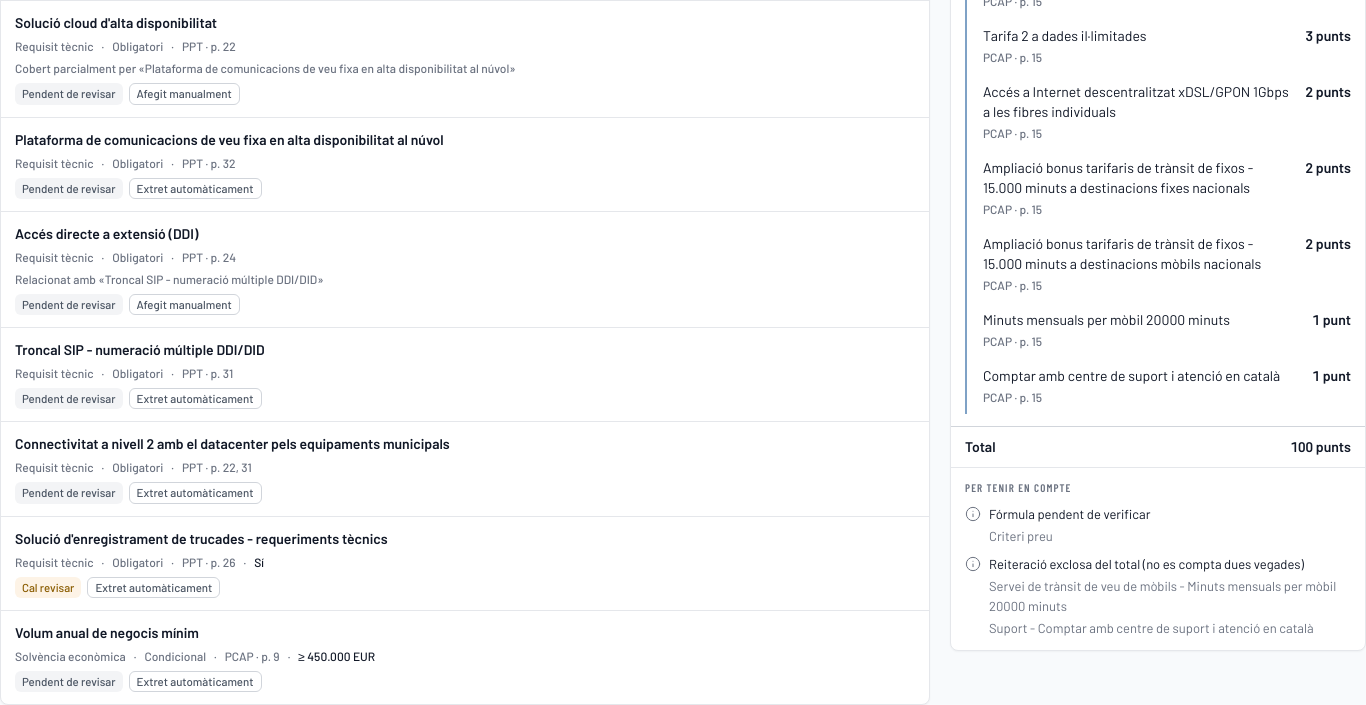
it: Revisió de la licitació › M09: l'evidència original i la cita manual de p. 22
(page scrolled)
Expected: the text "PPT · p. 22, 31" is shown, [182,458,252,476]
Expected: the 3rd text "Extret automàticament" is shown, [128,482,262,504]
Click the button "Connectivitat a nivell 2" at (232, 444), box [1,422,929,516]
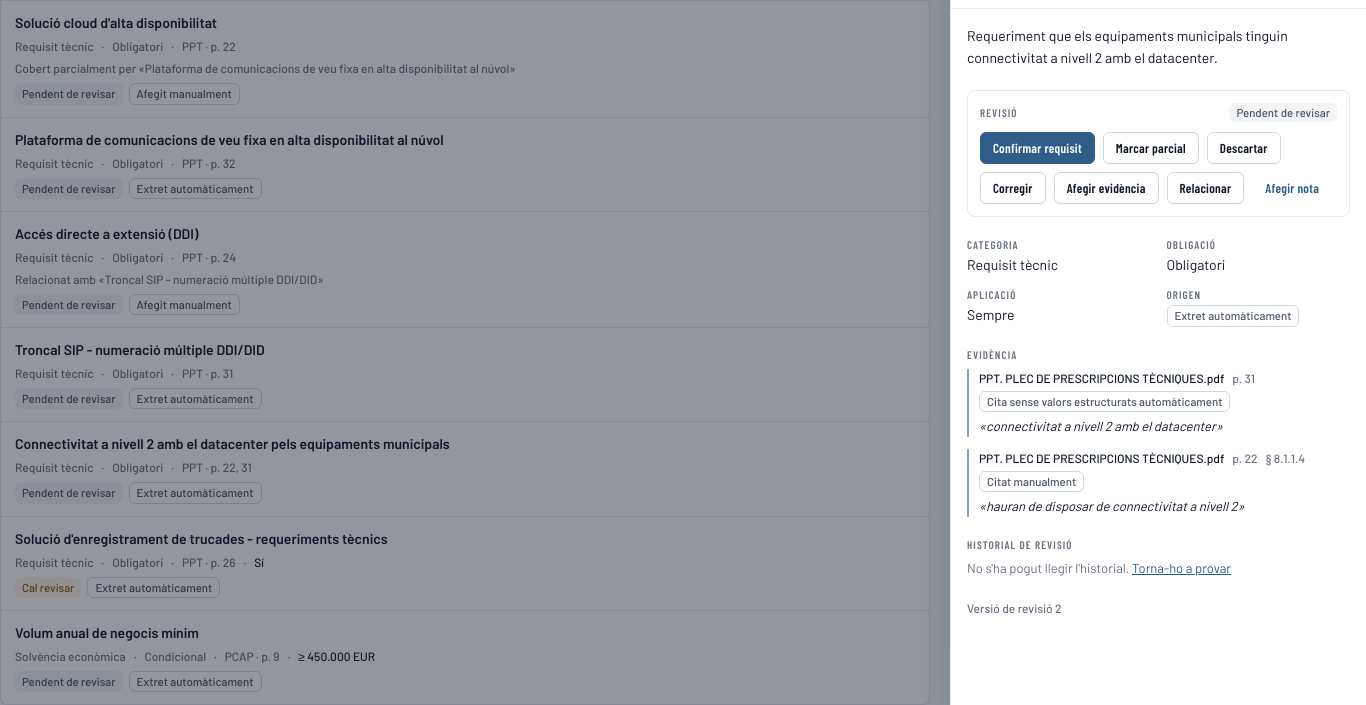
Expected: the text "p. 31" is shown, [1232,368,1255,386]
Expected: the text "p. 22" is shown, [1232,449,1258,467]
Expected: the text "§ 8.1.1.4" is shown, [1266,449,1305,467]
